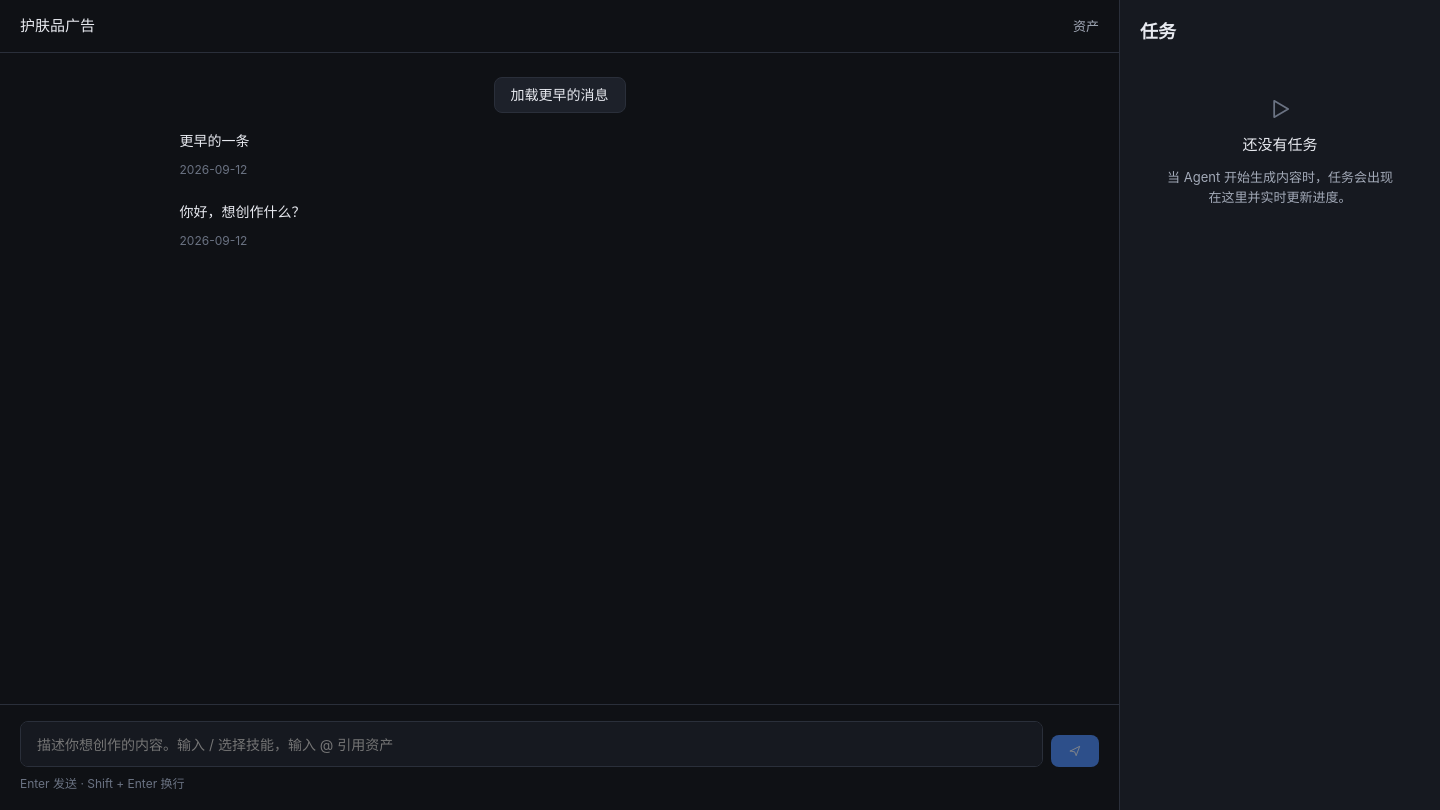
Test: AgentWorkspace 接线：会话历史分页 › 还有更早的消息时给出入口，点开后前插到顶部且不重复
Check: the text "更早的一条" is shown, box [180,132,250,149]
Click the button "加载更早的消息": (560, 95) [494,77,626,113]
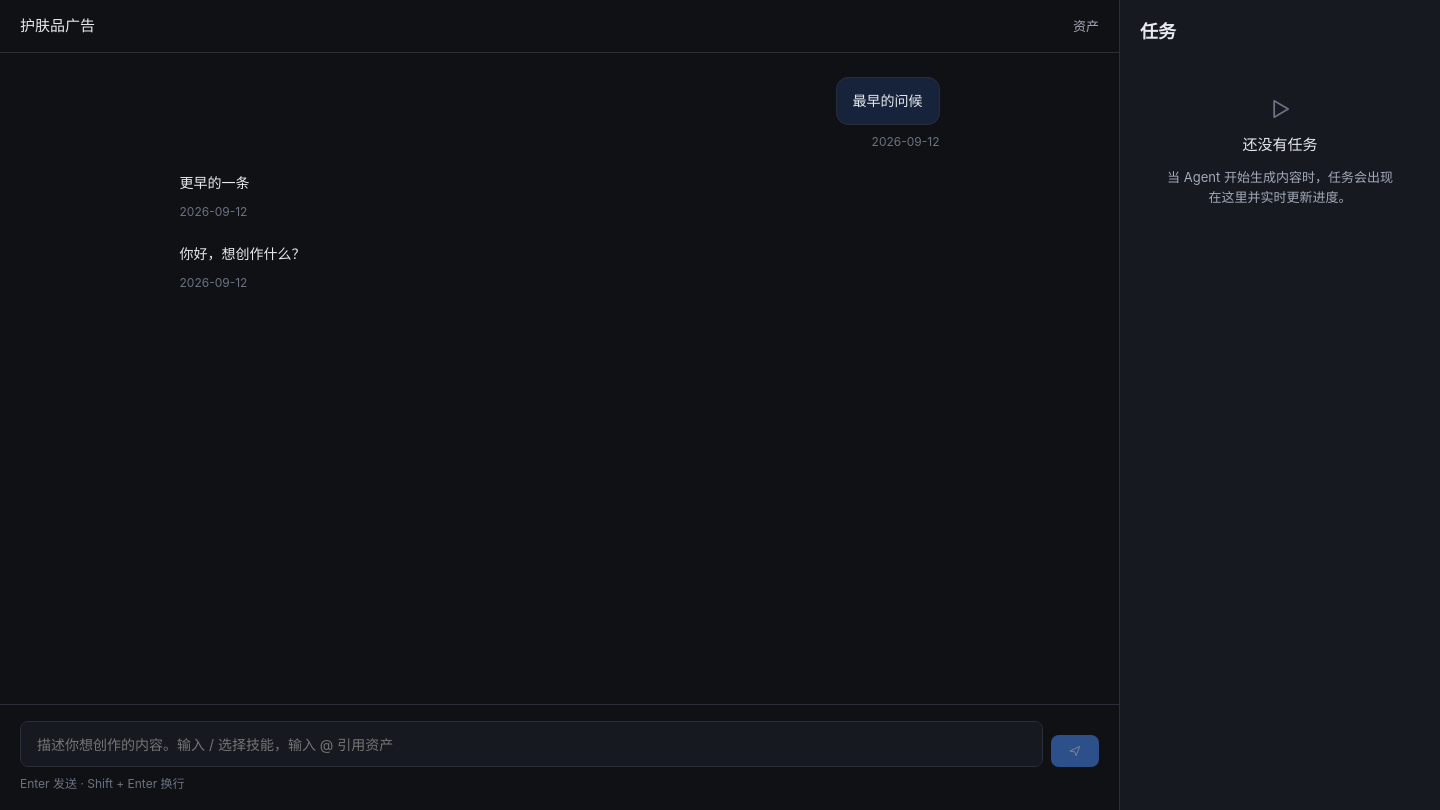
Check: the text "最早的问候" is shown, box [836,77,940,125]
Check: the button "加载更早的消息" is gone
